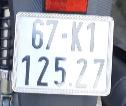1: (20, 54, 32, 87), (86, 21, 96, 55)
2: (73, 56, 90, 92), (35, 54, 51, 88)
5: (53, 54, 69, 87)
6: (30, 17, 45, 52)
7: (92, 57, 106, 91), (45, 19, 59, 49)
K: (70, 19, 85, 53)
